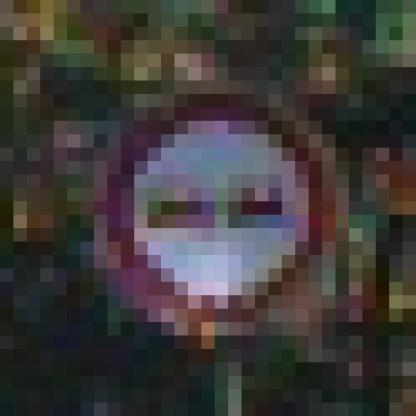No Overtaking: (68, 68, 350, 350)
